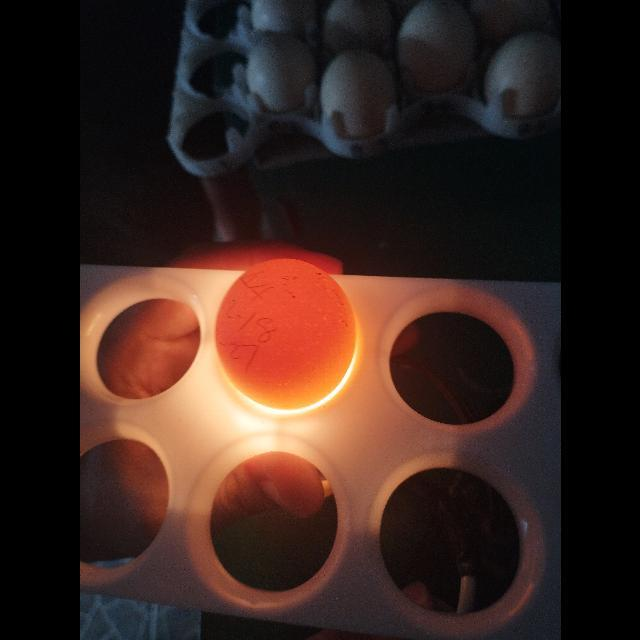Infertile: (210, 254, 360, 416)
